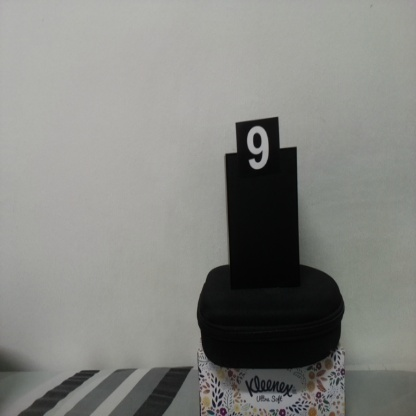id_9: (236, 122, 280, 191)
